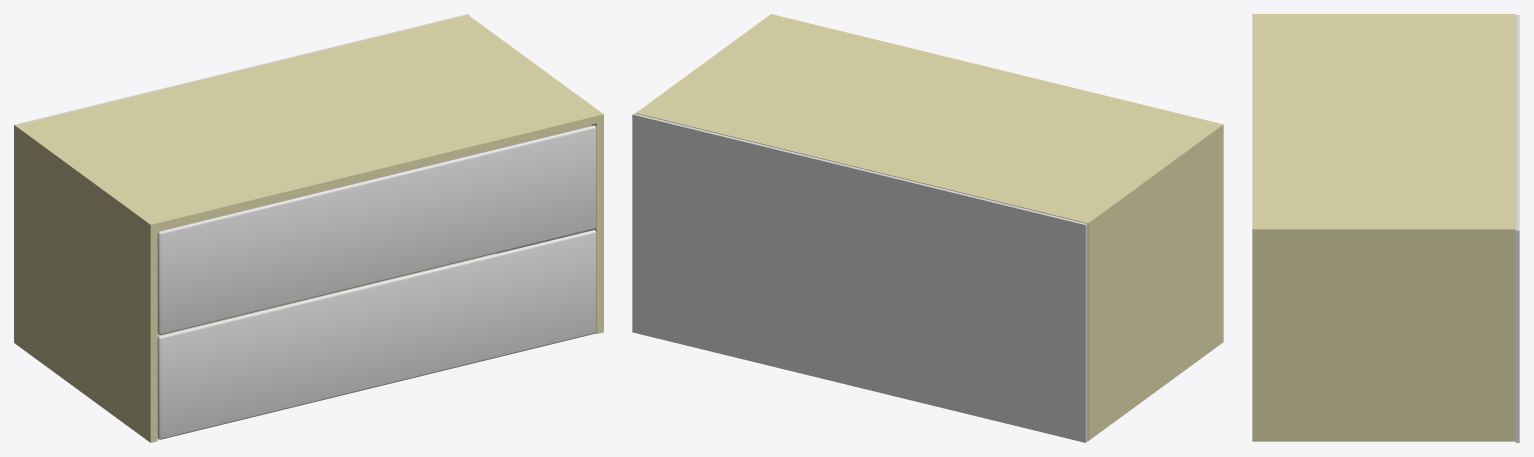
Rendered from washBasin.fbx.
3 renders of one model, left to right at view 1: azimuth 30°, elevation 25°; view 2: azimuth 150°, elevation 25°; view 3: azimuth 270°, elevation 25°, orthographic. The views are drawn at different scales.
Visible parts, largest first — view 1: Cube.034, Cube.040, Plane.008; view 2: Plane.008, Cube.034; view 3: Cube.034, Plane.008.
Part boxes in pixels (left/top/right/bottom): Cube.034: left=15, top=15, right=603, bottom=442; Cube.040: left=157, top=125, right=596, bottom=439; Plane.008: left=14, top=14, right=469, bottom=343; Plane.008: left=632, top=113, right=1087, bottom=442; Cube.034: left=635, top=14, right=1223, bottom=440; Cube.034: left=1252, top=14, right=1515, bottom=441; Plane.008: left=1515, top=15, right=1519, bottom=442.
Size of the model in its own units: 502 by 231 by 262.
